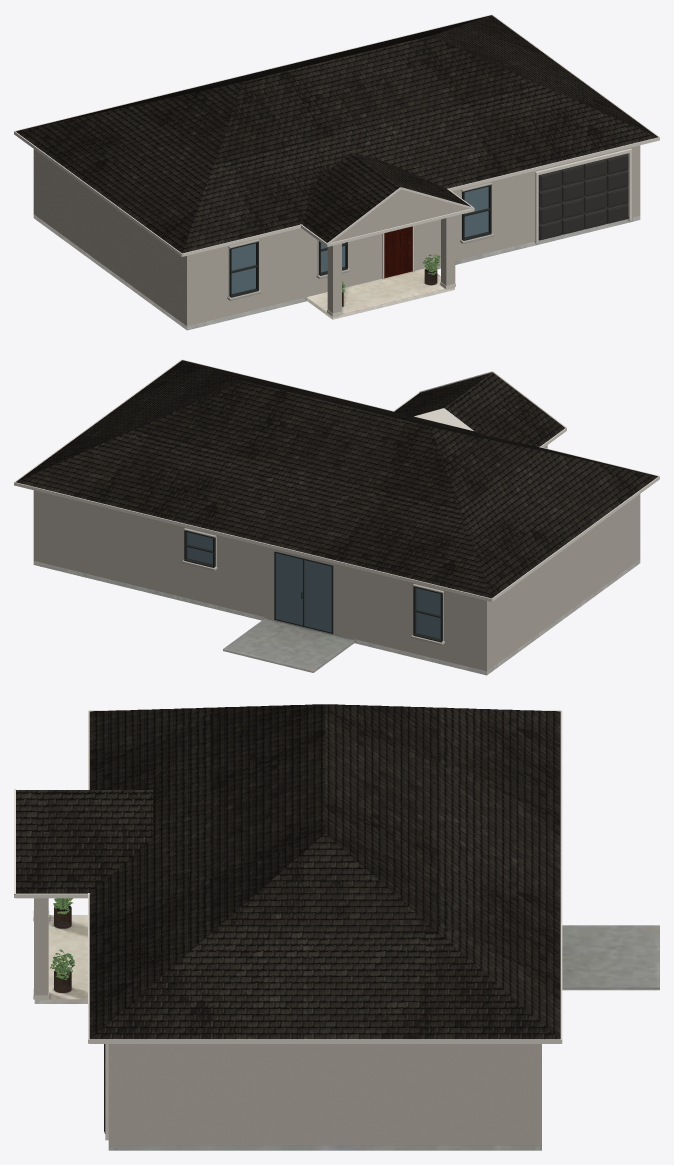
Rendered from bell-exterior-v3.glb.
3 views of the same model, one above another, from view 1: azimuth 30°, elevation 25°; view 2: azimuth 150°, elevation 25°; view 3: azimuth 270°, elevation 25° (orthographic). The views are drawn at different scales.
Visible parts, largest first — view 1: Bell / Teja asfáltica antracita · acabado propuesto · 2026 f, Bell / Estuco marfil · acabado propuesto · 2026 finish (×2), Exterior / asphalt shingle edges, Exterior / satin garage panels, Baked interior, Bell / Molduras y carpintería marfil (×2), Bell / Vidrio, Bell / Roble natural · acabado propuesto · 2026 finish, Exterior / graphite window rebates, RPC · Molduras blanco cálido, RPC · Garaje · acero pintado greige, Exterior / limestone sills; view 2: Bell / Teja asfáltica antracita · acabado propuesto · 2026 f, Bell / Estuco marfil · acabado propuesto · 2026 finish, Exterior / asphalt shingle edges, Baked interior, Bell / Vidrio, Bell / Molduras y carpintería marfil, Exterior / graphite window rebates, Bell / Aluminio bronce oscuro; view 3: Bell / Teja asfáltica antracita · acabado propuesto · 2026 f, Bell / Estuco marfil · acabado propuesto · 2026 finish, Exterior / asphalt shingle edges, Baked interior, Bell / Molduras y carpintería marfil.
Part boxes in pixels (x1,y1,x2,y2): Bell / Teja asfáltica antracita · acabado propuesto · 2026 f: (16, 15, 657, 253); Bell / Estuco marfil · acabado propuesto · 2026 finish (×2): (33, 145, 640, 326); Exterior / asphalt shingle edges: (19, 15, 654, 250); Exterior / satin garage panels: (539, 154, 628, 240); Baked interior: (33, 214, 640, 330); Bell / Molduras y carpintería marfil (×2): (14, 14, 659, 316); Bell / Vidrio: (231, 186, 488, 293); Bell / Roble natural · acabado propuesto · 2026 finish: (384, 226, 412, 278); Exterior / graphite window rebates: (229, 184, 491, 297); RPC · Molduras blanco cálido: (535, 148, 631, 243); RPC · Garaje · acero pintado greige: (538, 153, 627, 237); Exterior / limestone sills: (227, 182, 493, 300); Bell / Teja asfáltica antracita · acabado propuesto · 2026 f: (16, 360, 657, 598); Bell / Estuco marfil · acabado propuesto · 2026 finish: (33, 445, 640, 671); Exterior / asphalt shingle edges: (19, 360, 654, 595); Baked interior: (33, 559, 640, 675); Bell / Vidrio: (187, 532, 440, 638); Bell / Molduras y carpintería marfil: (14, 359, 659, 601); Exterior / graphite window rebates: (184, 530, 442, 642); Bell / Aluminio bronce oscuro: (187, 532, 440, 639); Bell / Teja asfáltica antracita · acabado propuesto · 2026 f: (16, 704, 560, 1039); Bell / Estuco marfil · acabado propuesto · 2026 finish: (34, 898, 541, 1144); Exterior / asphalt shingle edges: (16, 704, 556, 1036); Baked interior: (34, 906, 659, 1150); Bell / Molduras y carpintería marfil: (14, 710, 562, 1043).
Bounding box in the file's own units: 16.08 × 5.14 × 13.33.
Materials: 17 (5 with a texture image).
